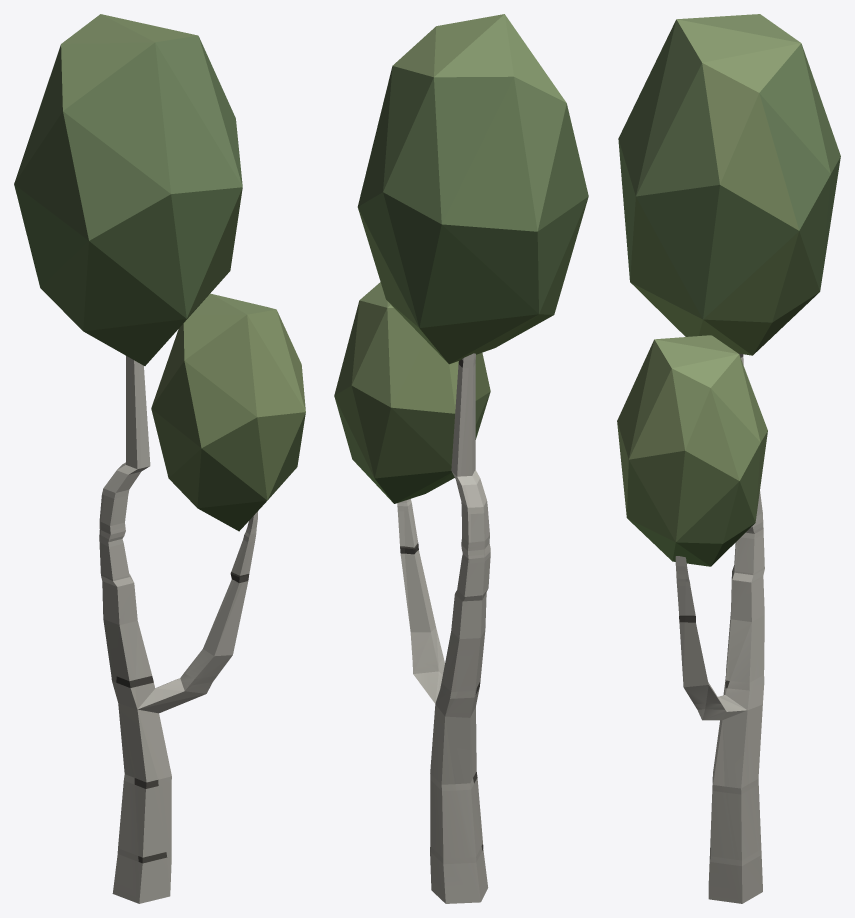
Rendered from Birch_Tree_m_01.glb.
3 views of the same model, side by side, from view 1: azimuth 30°, elevation 25°; view 2: azimuth 150°, elevation 25°; view 3: azimuth 270°, elevation 25° (orthographic).
Visible parts, largest first — view 1: Birch_Tree_m_01; view 2: Birch_Tree_m_01; view 3: Birch_Tree_m_01.
Boxes of the visible parts, <box> form: Birch_Tree_m_01: <box>14,14,305,903</box>; Birch_Tree_m_01: <box>334,14,588,903</box>; Birch_Tree_m_01: <box>617,14,840,903</box>.
Bounding box in the file's own units: 2.64 × 9.24 × 2.17.
